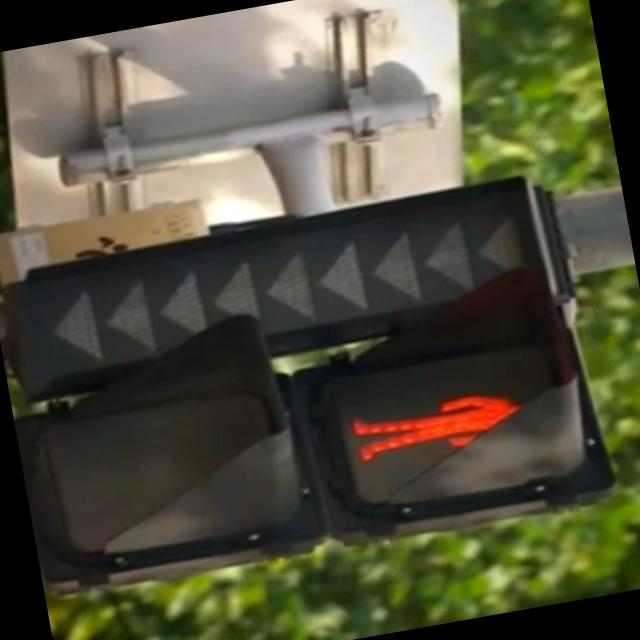red_light: (339, 356, 542, 477)
